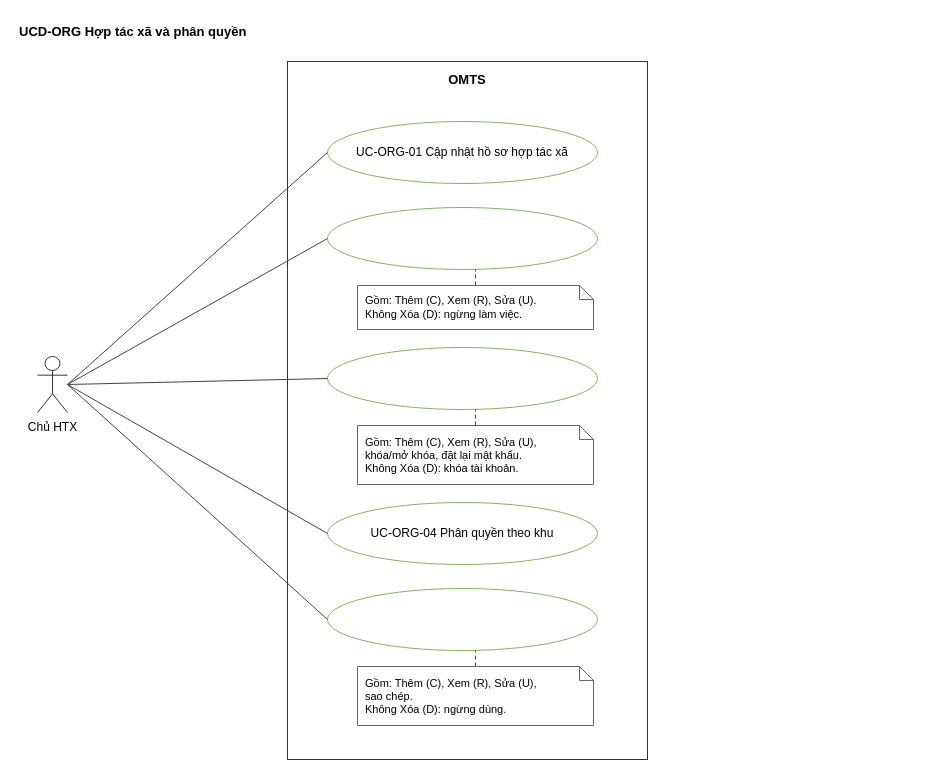
This 934x777 diagram has some shape labels left out. Here are the shapes that lost their labels. From the top down, the centre of each, then its label:
the point at 462,238: UC-ORG-02 Quản lý nhân viên
the point at 462,378: UC-ORG-03 Quản lý tài khoản người dùng
the point at 462,619: UC-ORG-05 Quản lý vai trò và quyền
